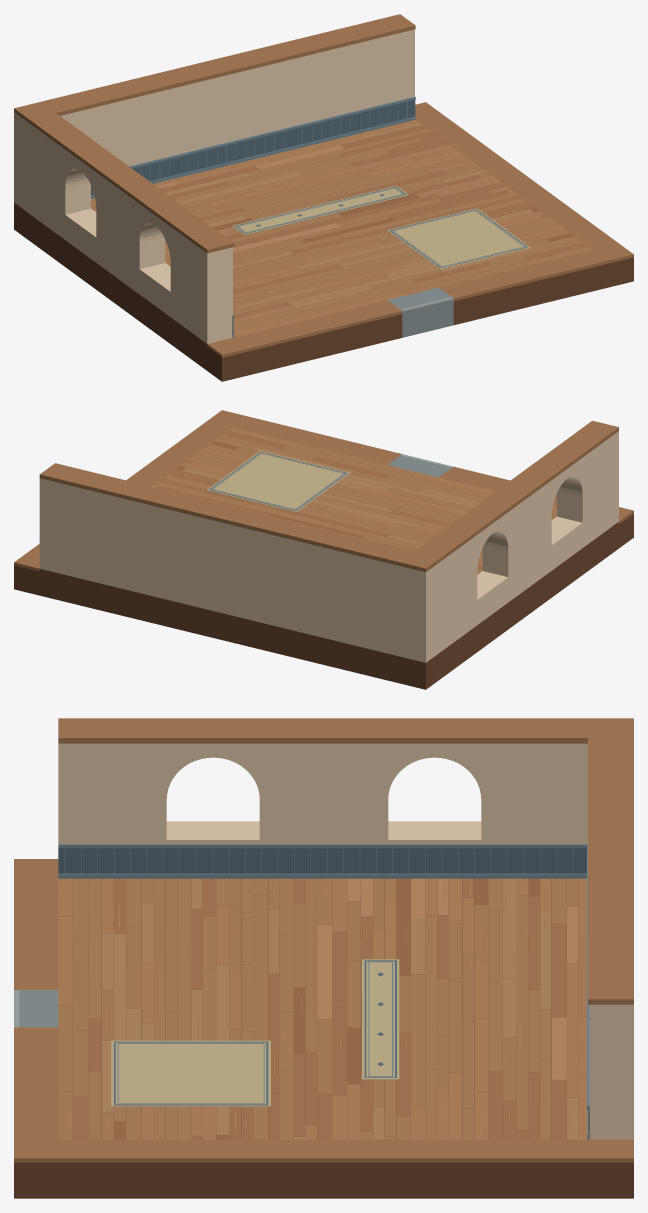
File: room.glb
The picture shows the model from 3 angles, top to bottom: view 1: azimuth 30°, elevation 25°; view 2: azimuth 150°, elevation 25°; view 3: azimuth 270°, elevation 25°; orthographic projection. The views are drawn at different scales.
Visible parts, largest first — view 1: Long oak boards and grain, North plaster wall, North wall cap, West plaster below sills, West wall cap, West underframe, Wainscot panel, East flush boundary strip, South left platform face, Shared table rug, South right platform face, West wall end (+10 smaller); view 2: North plaster wall, Long oak boards and grain, North underframe, North wall cap, West plaster below sills, West wall cap, West underframe, Shared table rug, West wall between arches.001, West wall end, South right flush boundary strip, East flush boundary strip (+5 smaller); view 3: Long oak boards and grain, East platform face, East flush boundary strip, West wall cap, Wainscot panel, North wall cap, West wall between arches.001, Shared table rug, West wall end, West wall between arches, Continuous floor substrate, South right flush boundary strip (+8 smaller).
Boxes of the visible parts, bbox=[...] form: Long oak boards and grain: bbox=[91, 120, 592, 337]; North plaster wall: bbox=[14, 29, 414, 213]; North wall cap: bbox=[14, 14, 415, 122]; West plaster below sills: bbox=[29, 188, 232, 343]; West wall cap: bbox=[29, 112, 233, 253]; West underframe: bbox=[29, 214, 207, 370]; Wainscot panel: bbox=[91, 99, 415, 334]; East flush boundary strip: bbox=[415, 102, 618, 249]; South left platform face: bbox=[207, 314, 402, 381]; Shared table rug: bbox=[387, 208, 530, 269]; South right platform face: bbox=[453, 257, 633, 325]; West wall end: bbox=[170, 227, 232, 318]; North plaster wall: bbox=[39, 478, 440, 662]; Long oak boards and grain: bbox=[152, 427, 556, 574]; North underframe: bbox=[39, 569, 440, 689]; North wall cap: bbox=[39, 463, 441, 572]; West plaster below sills: bbox=[440, 496, 618, 651]; West wall cap: bbox=[414, 420, 618, 560]; West underframe: bbox=[440, 522, 618, 678]; Shared table rug: bbox=[207, 451, 349, 512]; West wall between arches.001: bbox=[482, 480, 551, 576]; West wall end: bbox=[557, 431, 618, 522]; South right flush boundary strip: bbox=[207, 410, 401, 464]; East flush boundary strip: bbox=[14, 421, 232, 571]; Long oak boards and grain: bbox=[58, 878, 587, 1139]; East platform face: bbox=[58, 1162, 633, 1198]; East flush boundary strip: bbox=[58, 1139, 633, 1162]; West wall cap: bbox=[58, 718, 589, 743]; Wainscot panel: bbox=[58, 848, 589, 1135]; North wall cap: bbox=[588, 718, 633, 1004]; West wall between arches.001: bbox=[259, 743, 388, 839]; Shared table rug: bbox=[111, 1040, 270, 1106]; West wall end: bbox=[58, 743, 166, 839]; West wall between arches: bbox=[481, 743, 587, 839]; Continuous floor substrate: bbox=[58, 878, 586, 1139]; South right flush boundary strip: bbox=[14, 1027, 58, 1162].
Bounding box in the file's own units: 16 × 4.5 × 14.
